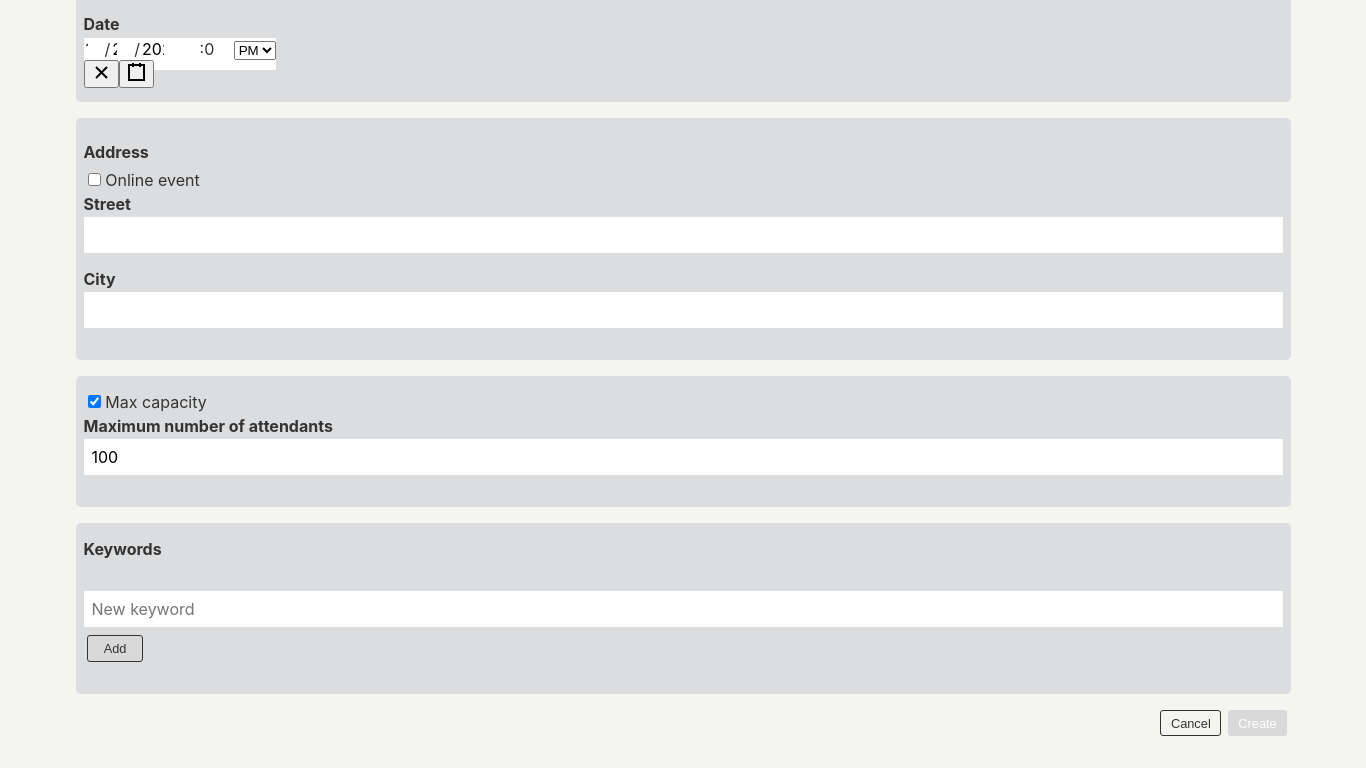
Test: Create Meetup unit tests › renders separate keywords if many keywords are entered with spaces between them
(page scrolled)
Step 1. Type "one   two three   four" into the field labelled "New keyword" → (683, 609), box [84,591,1282,627]
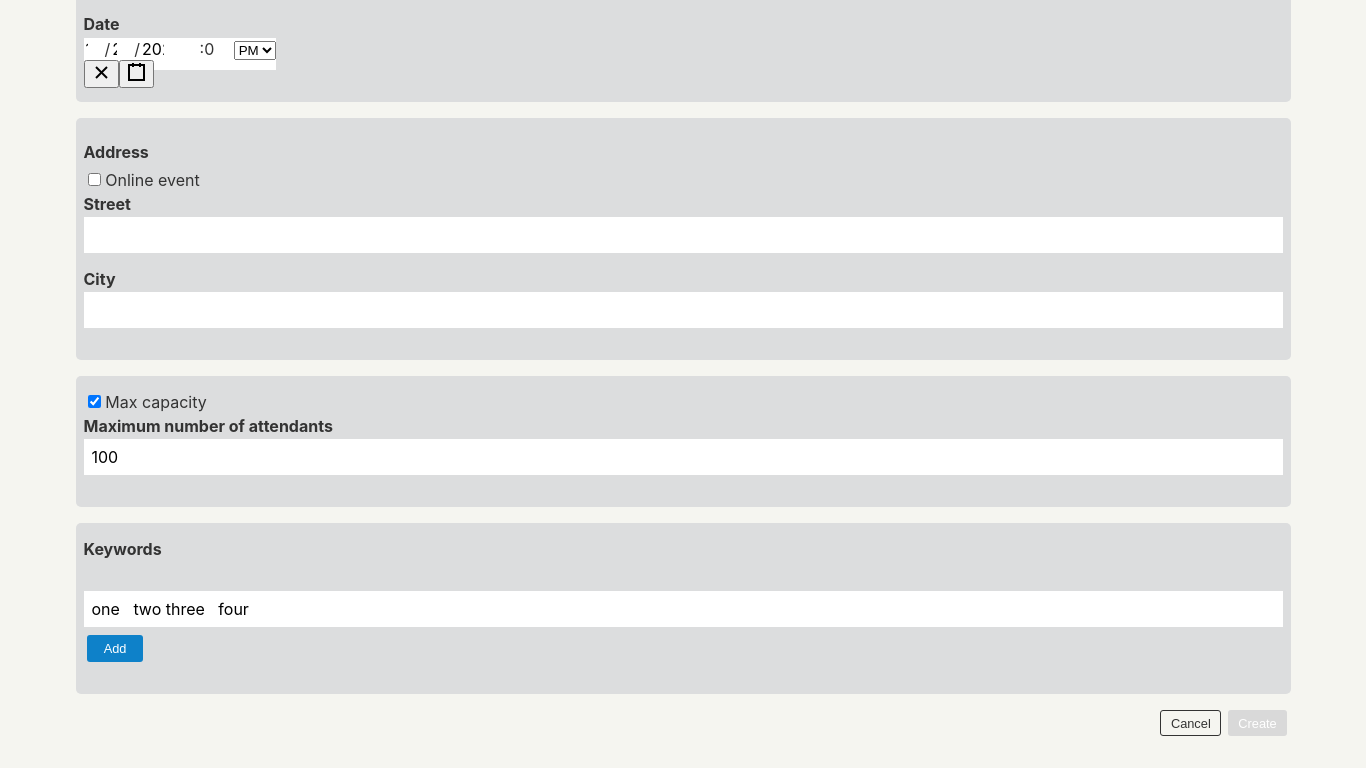
Step 2. Click the button "Add" → (115, 648), box [87,635,144,662]
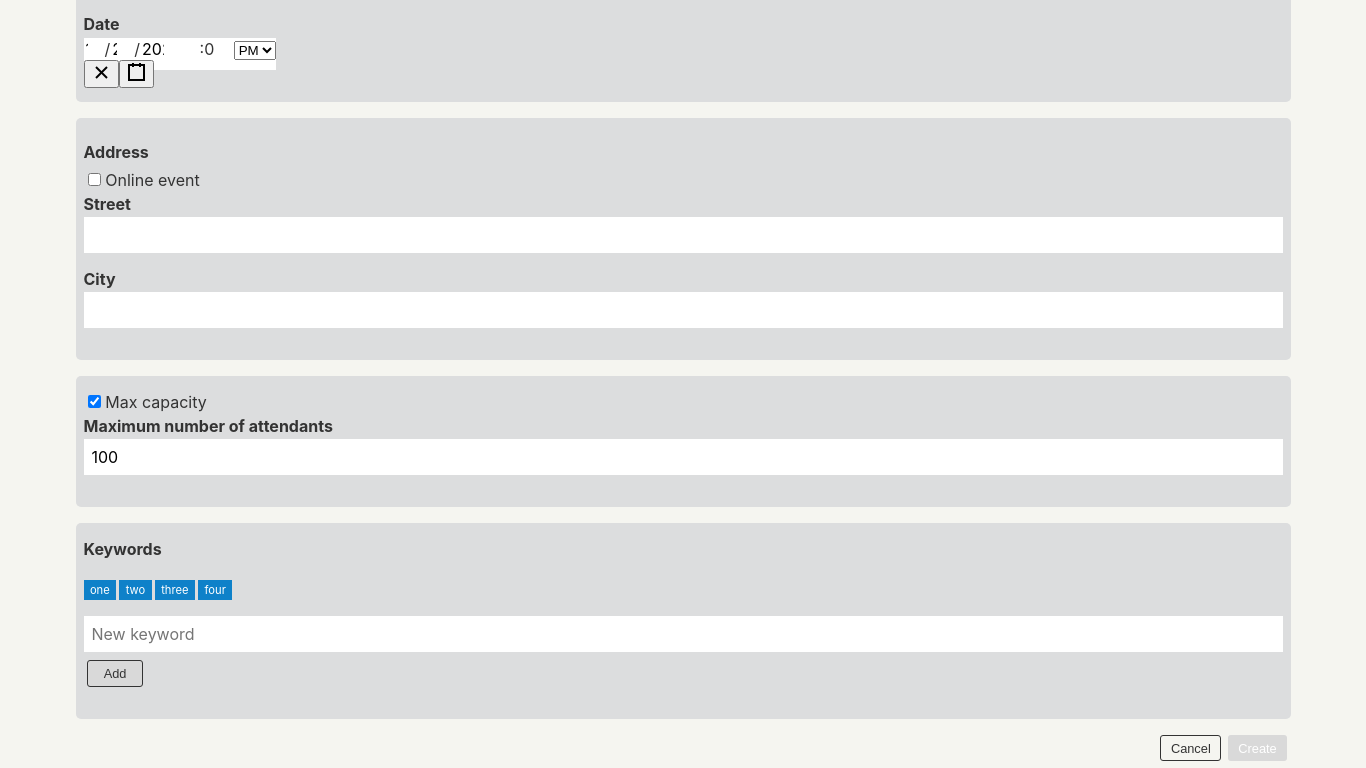
Result: the number of list items named "keyword" is 4 at [84,580,116,600]; [119,580,152,600]; [155,580,195,600]; [198,580,232,600]
Result: the list item with aria-label "keyword" reads "one" at [90,583,110,597]
Result: the list item with aria-label "keyword" reads "four" at [204,583,226,597]
